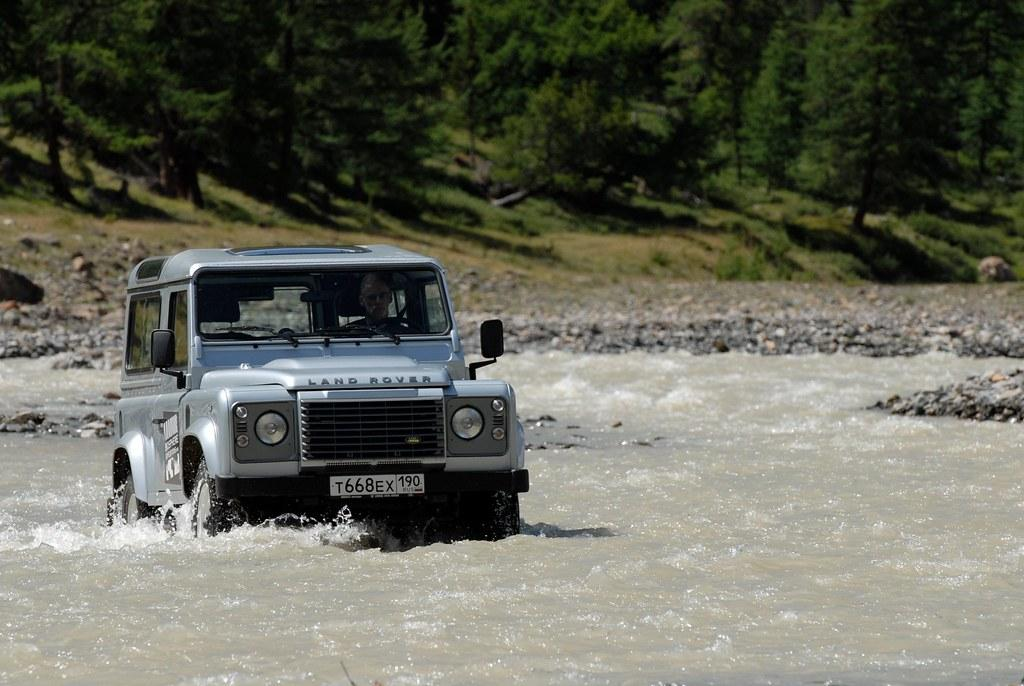car: (107, 243, 531, 544)
